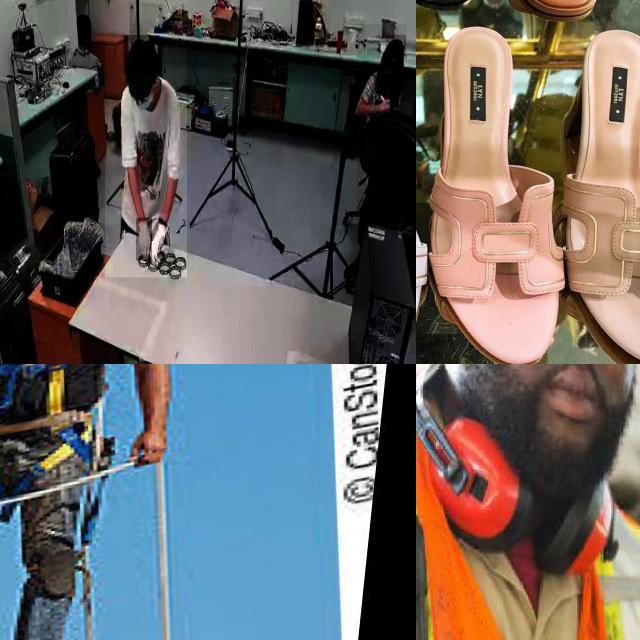Ear-protection: (416, 364, 633, 577)
Harness: (0, 364, 68, 417)
Sandals: (423, 0, 579, 364), (551, 6, 640, 364)
face_nomask: (384, 62, 396, 80)
hand_glove: (152, 213, 168, 265), (136, 218, 152, 261)
hand_noglove: (380, 95, 390, 112)
head_nohelmet: (124, 35, 160, 75), (386, 35, 406, 58)
person: (416, 364, 640, 640), (105, 43, 187, 278), (357, 24, 407, 222)
vest: (416, 386, 640, 640)
